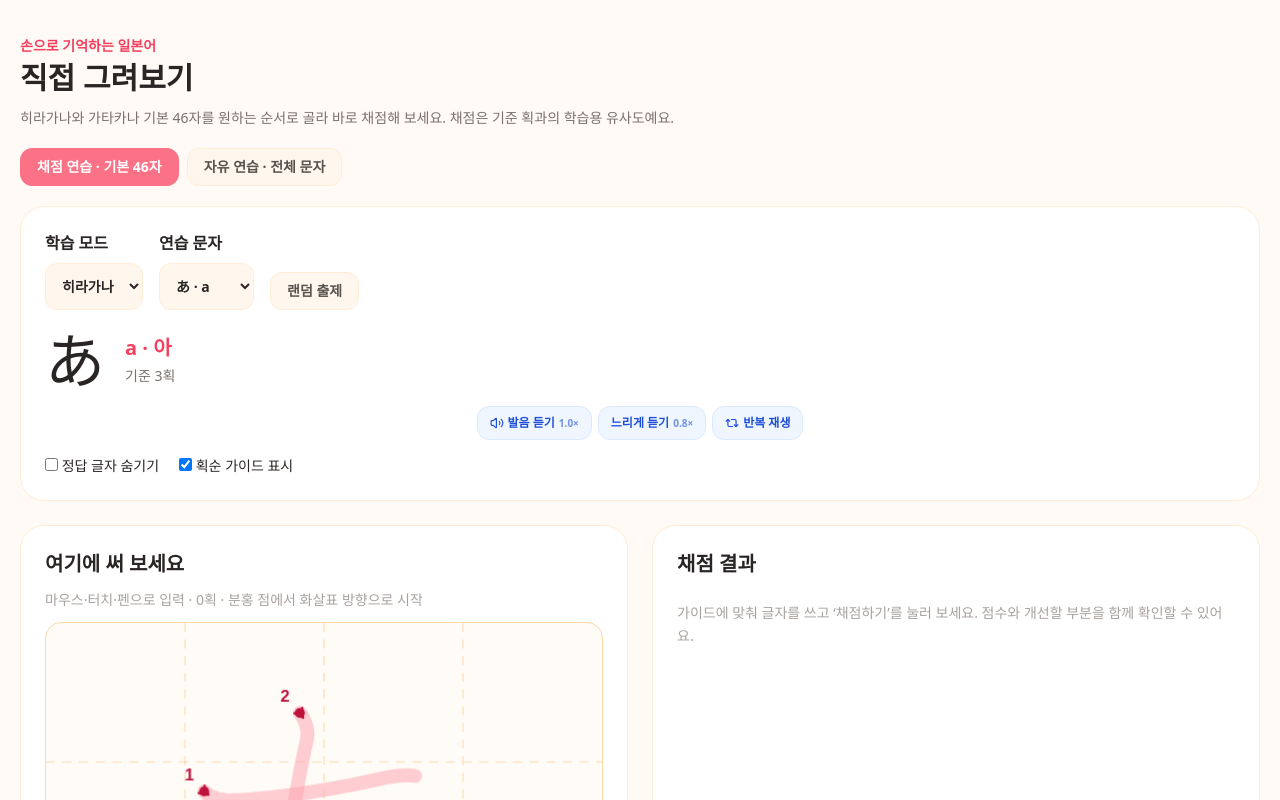
Test: 손글씨 1.3 화면 › 기본은 가이드가 켜진 46자이며 자유 연습에서 가타카나 확장 문자도 쓸 수 있다
Expected: the checkbox labelled "획순 가이드 표시" is checked, x1=179 y1=458 x2=192 y2=471
Click the button "자유 연습 · 전체 문자".
click(264, 167)  # box x1=187 y1=148 x2=342 y2=186
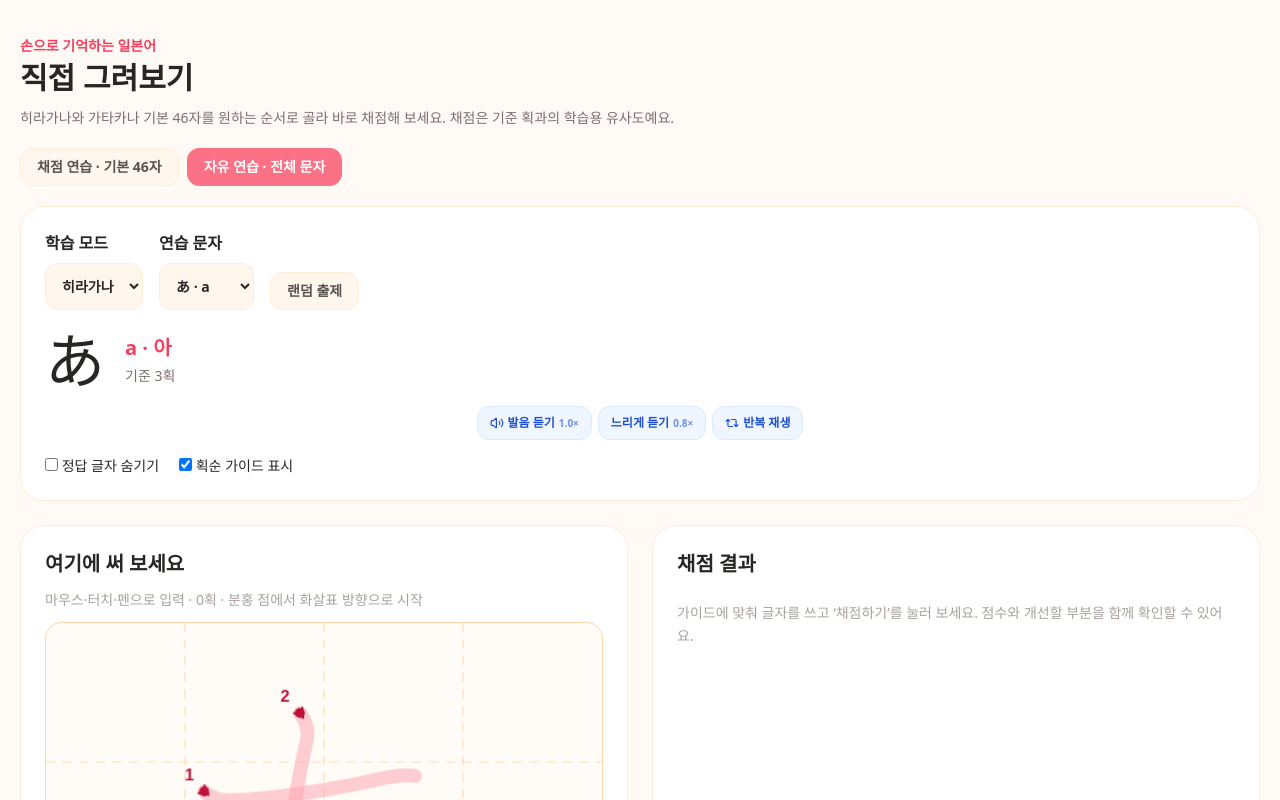
Select "가타카나" in the dropdown labelled "학습 모드" at (94, 286), box x1=45 y1=263 x2=143 y2=310
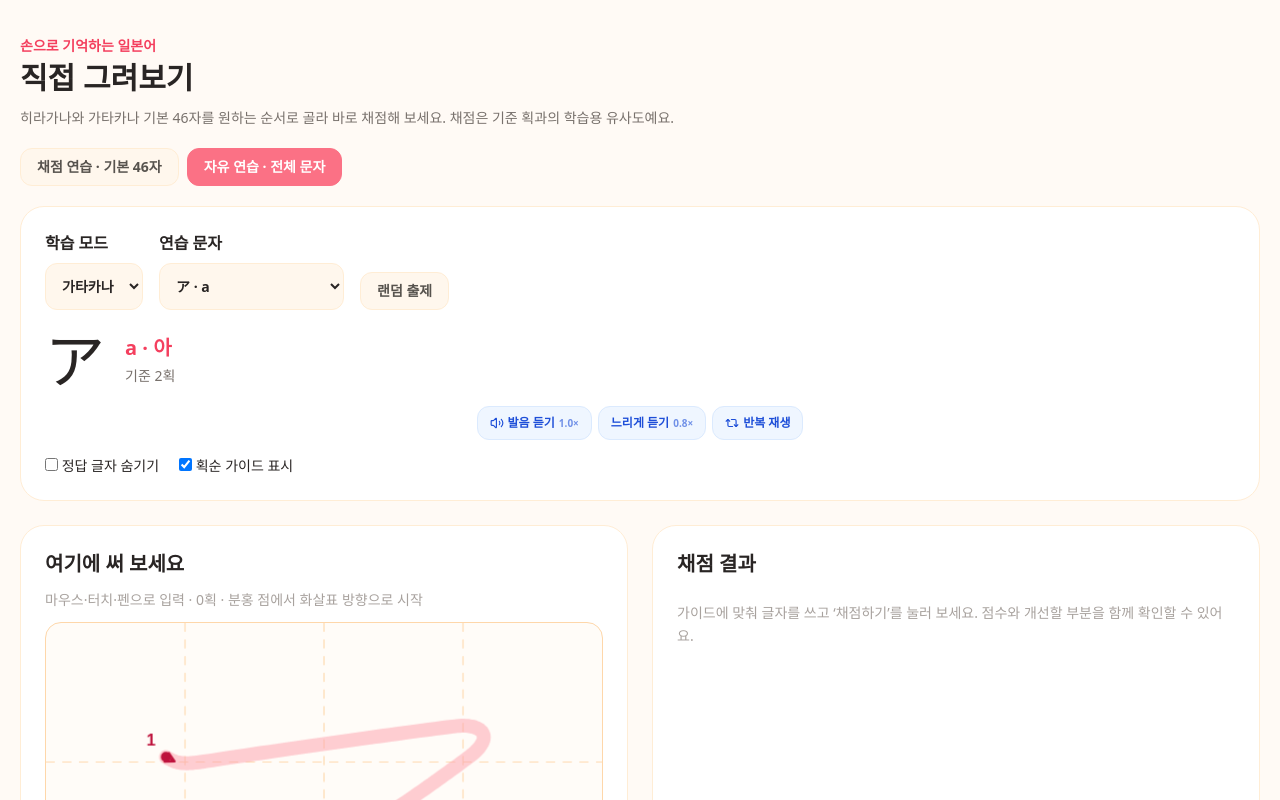
Select "ガ · ga (자유 필기)" in the dropdown labelled "연습 문자" at (252, 286), box x1=159 y1=263 x2=344 y2=310
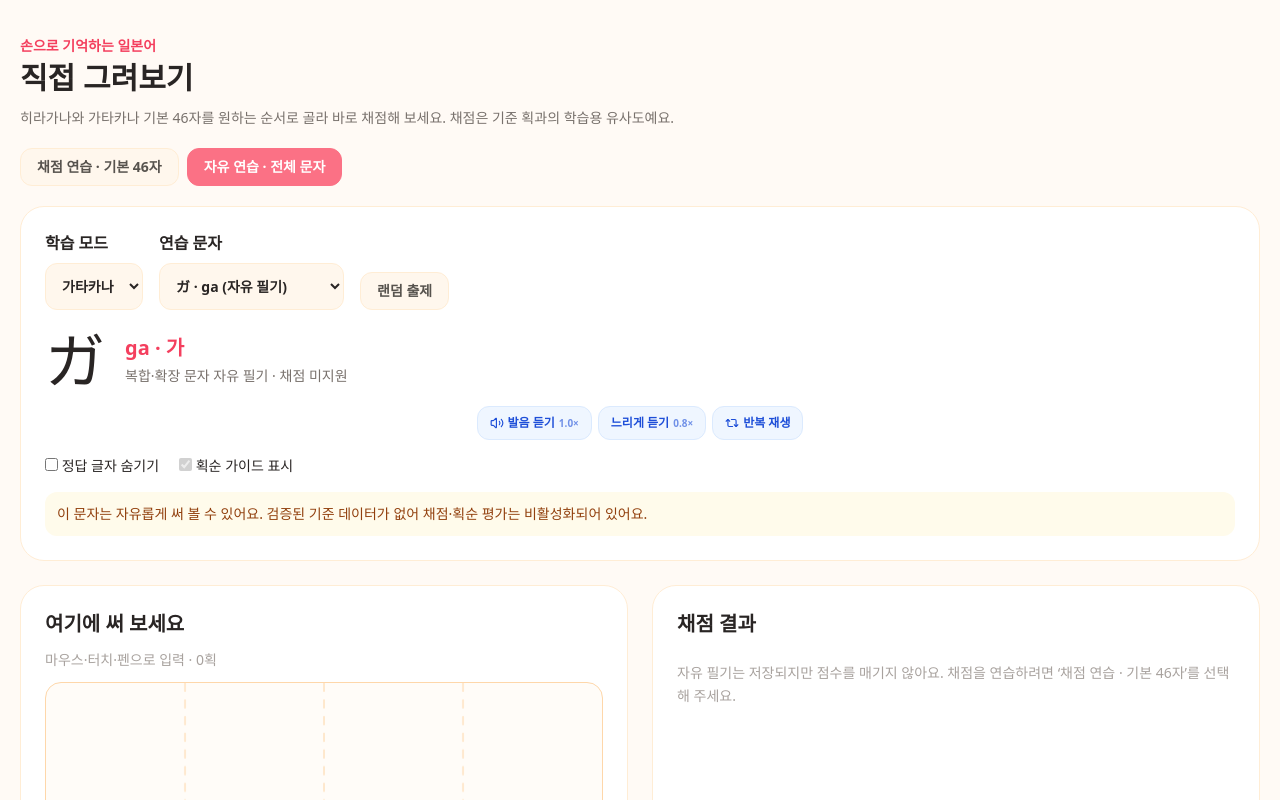
Now the checkbox labelled "획순 가이드 표시" is disabled, box x1=179 y1=458 x2=192 y2=471
